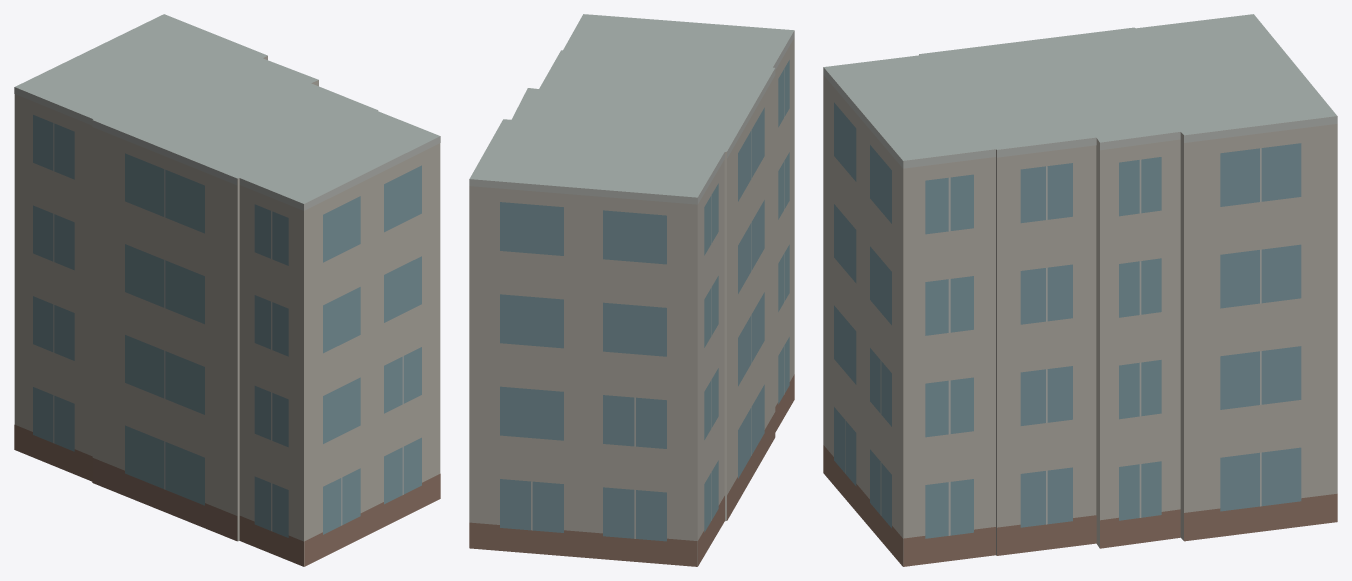
File: survey-upis-32970977.glb
3 views of the same model, side by side, from view 1: azimuth 30°, elevation 25°; view 2: azimuth 150°, elevation 25°; view 3: azimuth 270°, elevation 25° (orthographic). The views are drawn at different scales.
Parts seen in each view (by area): view 1: survey-upis-32970977.tmp; view 2: survey-upis-32970977.tmp; view 3: survey-upis-32970977.tmp.
Part boxes in pixels (x1,y1,x2,y2): survey-upis-32970977.tmp: [14, 14, 440, 566]; survey-upis-32970977.tmp: [469, 14, 794, 566]; survey-upis-32970977.tmp: [823, 14, 1337, 566].
Bounding box in the file's own units: 9.97 × 12.83 × 14.74.
